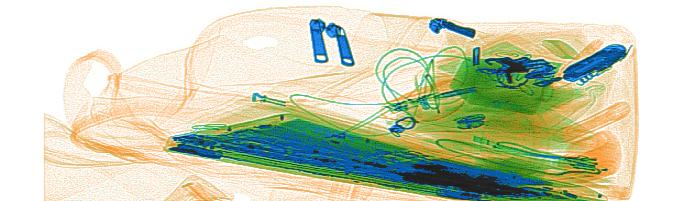knife: (561, 42, 629, 88)
